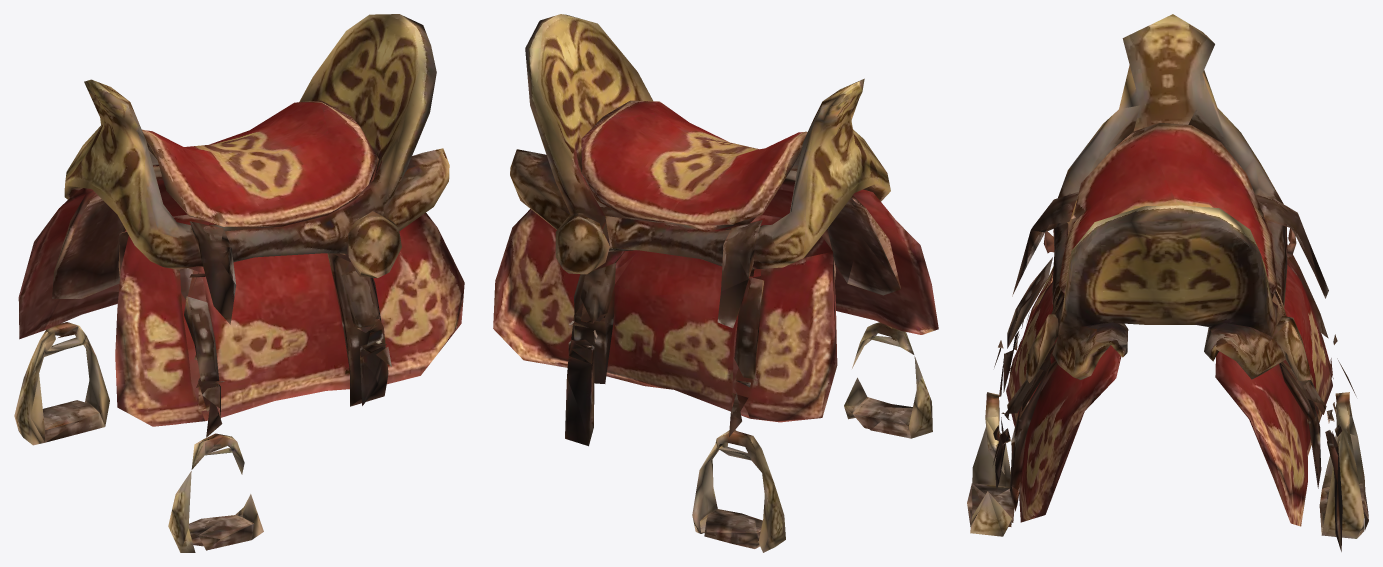
The model's file is saddle.glb.
3 views of the same model, side by side, from view 1: azimuth 30°, elevation 25°; view 2: azimuth 150°, elevation 25°; view 3: azimuth 270°, elevation 25° (orthographic). The views are drawn at different scales.
Parts seen in each view (by area): view 1: saddle.raw; view 2: saddle.raw; view 3: saddle.raw.
Boxes of the visible parts, bbox=[...] form: saddle.raw: bbox=[14, 14, 464, 552]; saddle.raw: bbox=[493, 14, 938, 552]; saddle.raw: bbox=[967, 14, 1368, 551].
Bounding box in the file's own units: 0.5349 × 0.6 × 0.4553.
1 material, 1 textured.
